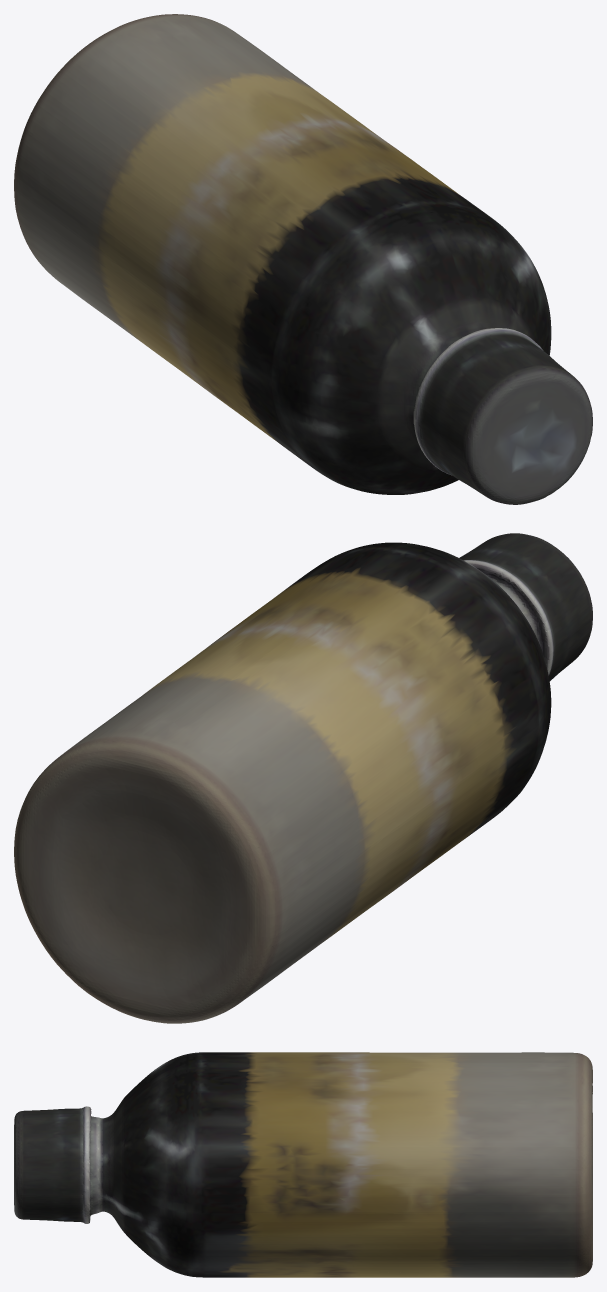
The picture shows the model from 3 angles, top to bottom: view 1: azimuth 30°, elevation 25°; view 2: azimuth 150°, elevation 25°; view 3: azimuth 270°, elevation 25°; orthographic projection. The views are drawn at different scales.
Visible parts, largest first — view 1: world; view 2: world; view 3: world.
Boxes of the visible parts, x1=… form: world: x1=14, y1=14, x2=592, y2=504; world: x1=14, y1=533, x2=592, y2=1023; world: x1=14, y1=1052, x2=592, y2=1277.
Bounding box in the file's own units: 0.0744 × 0.0743 × 0.1899.
